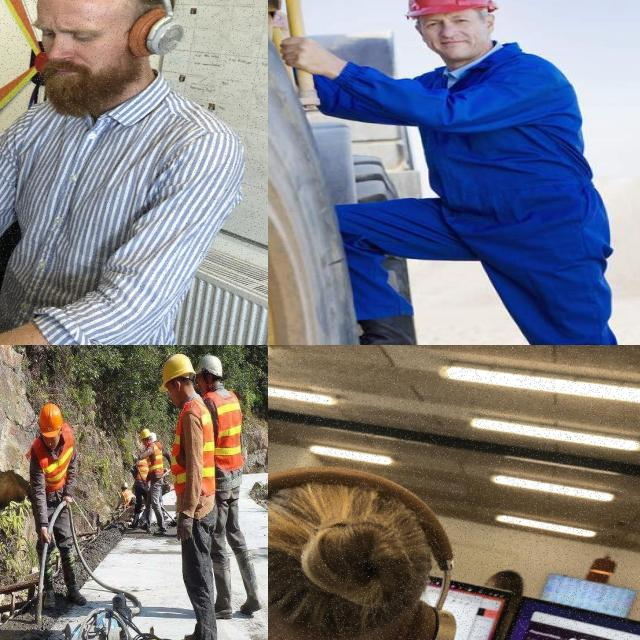Ear-protection: (268, 438, 506, 640), (13, 0, 205, 125)
No_Ear-Protection: (478, 8, 500, 38)
No_Glasses: (409, 14, 483, 30)
face_nomask: (167, 378, 187, 408), (39, 430, 62, 449)
hand_glove: (175, 506, 198, 551)
hand_noglove: (38, 520, 56, 548), (61, 497, 76, 512)
head_helmet: (36, 403, 63, 435), (159, 351, 193, 375), (204, 356, 226, 376), (138, 428, 154, 440), (118, 480, 130, 490)
person: (159, 355, 215, 640), (207, 357, 265, 622), (30, 401, 81, 618), (136, 429, 170, 526), (114, 470, 139, 521)
shoes: (238, 586, 268, 626), (212, 583, 234, 622), (38, 580, 64, 611), (66, 581, 87, 609)
vest: (175, 405, 214, 507), (209, 395, 245, 469), (40, 453, 73, 493), (134, 463, 148, 479), (123, 491, 135, 506)
